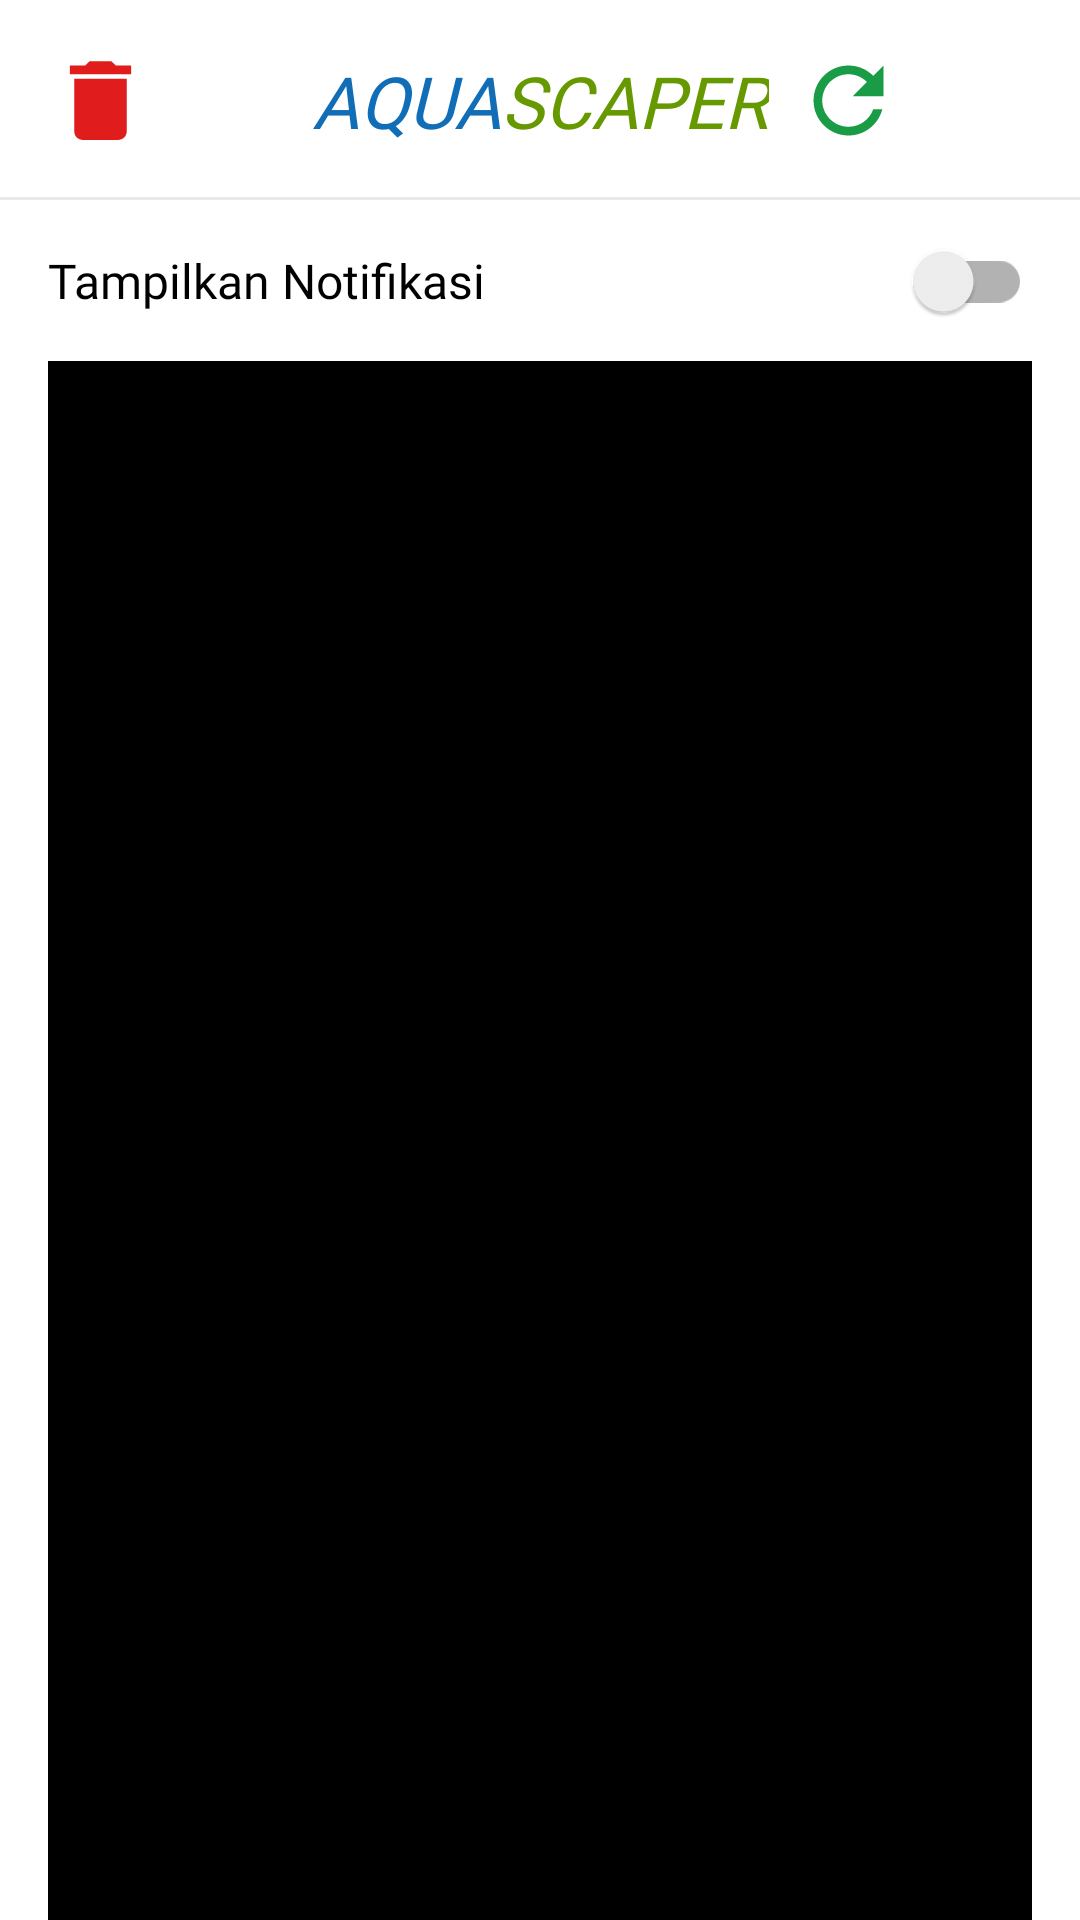

Named icons in this screenshot (1080x1920) and their centers, [x,y]:
delete: [100,100]
refresh: [848,100]
